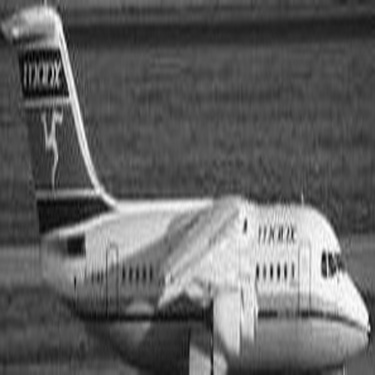airplane: (8, 6, 370, 371)
